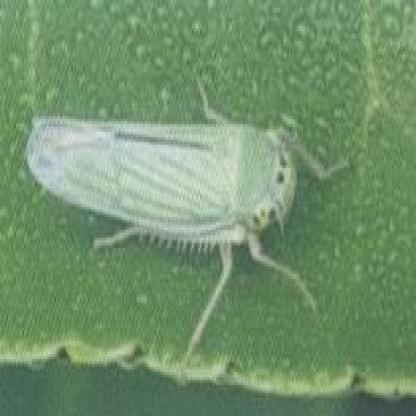Green-Leafhopper: (27, 86, 356, 362)
